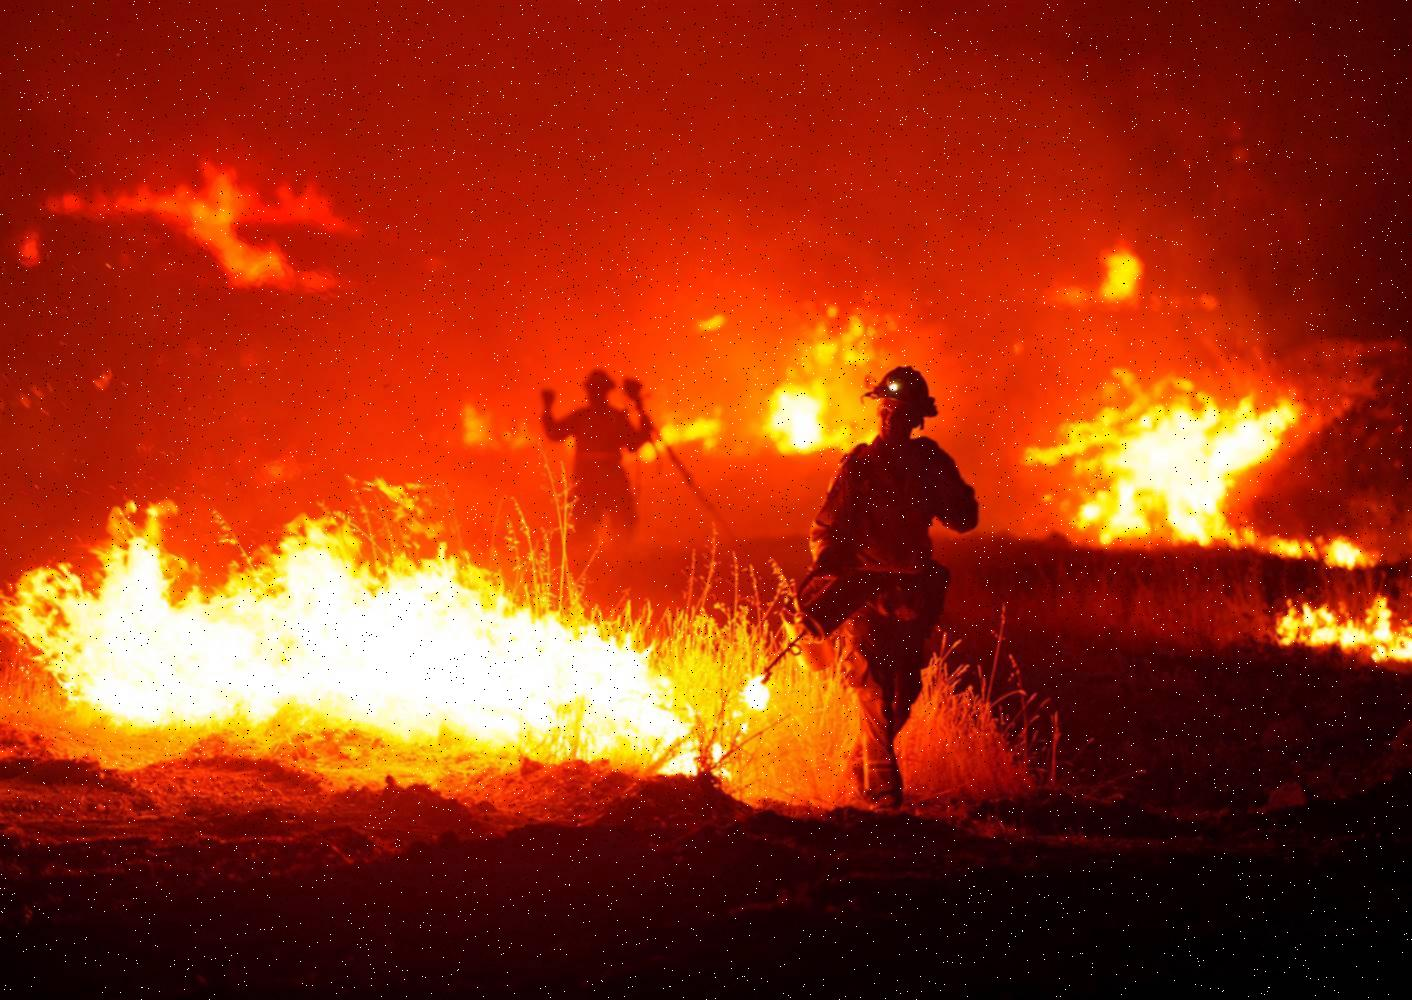fire: (30, 434, 701, 812), (725, 195, 1357, 531), (18, 104, 381, 297), (1272, 589, 1412, 680)
